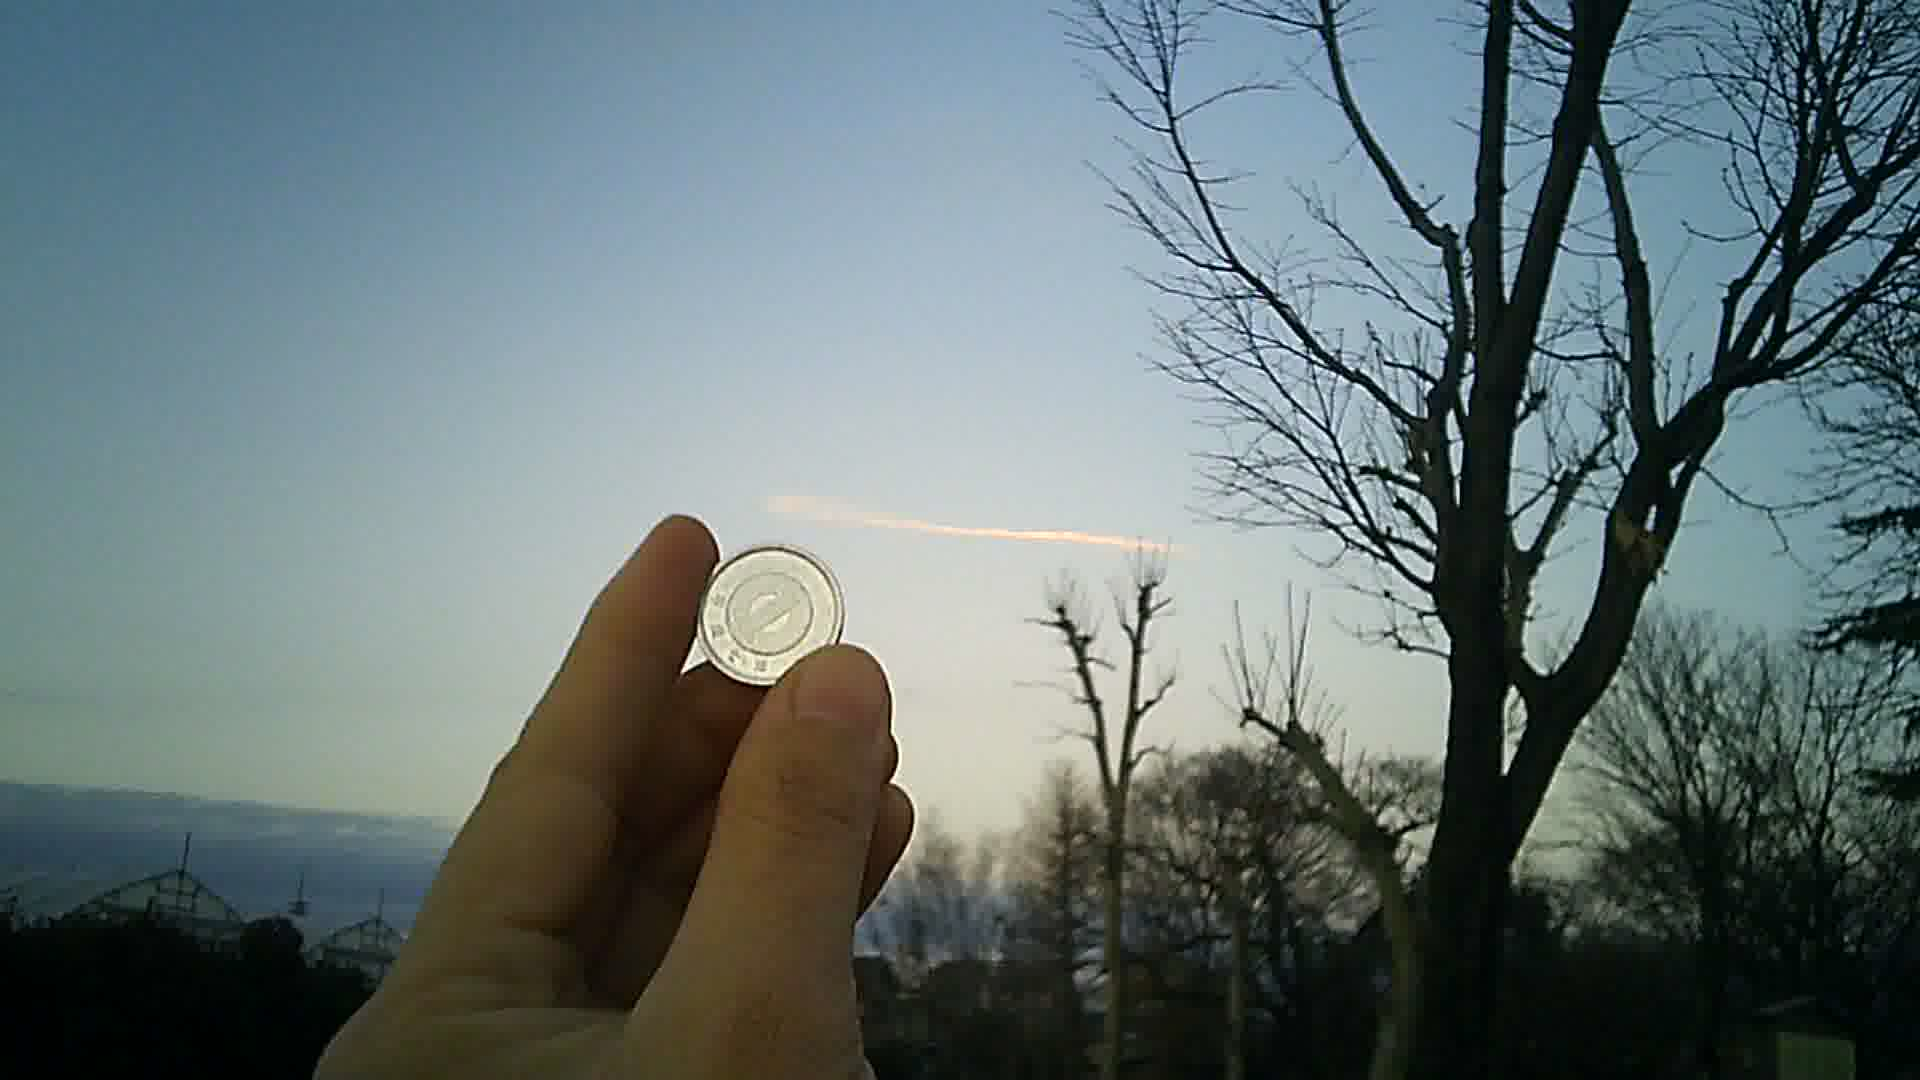1 Yen: (687, 538, 853, 694)
